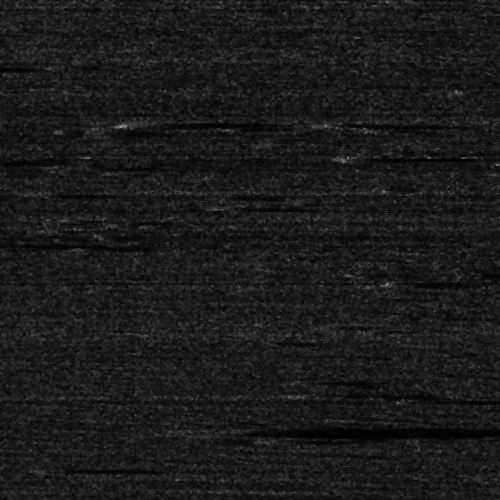object: (78, 116, 203, 127), (299, 154, 404, 161), (343, 278, 426, 285), (320, 118, 373, 127), (271, 375, 324, 384), (260, 434, 313, 441), (277, 390, 350, 395), (380, 396, 443, 401), (211, 202, 264, 207), (0, 239, 20, 248), (179, 429, 220, 432), (33, 467, 74, 470)
shadow: (287, 434, 500, 441), (141, 116, 272, 127), (0, 239, 127, 248), (347, 118, 467, 127), (352, 154, 500, 161), (199, 429, 500, 432), (298, 375, 382, 384), (313, 390, 428, 395), (412, 396, 500, 401), (385, 278, 445, 285), (238, 202, 321, 207), (54, 467, 152, 470), (0, 63, 52, 68)
